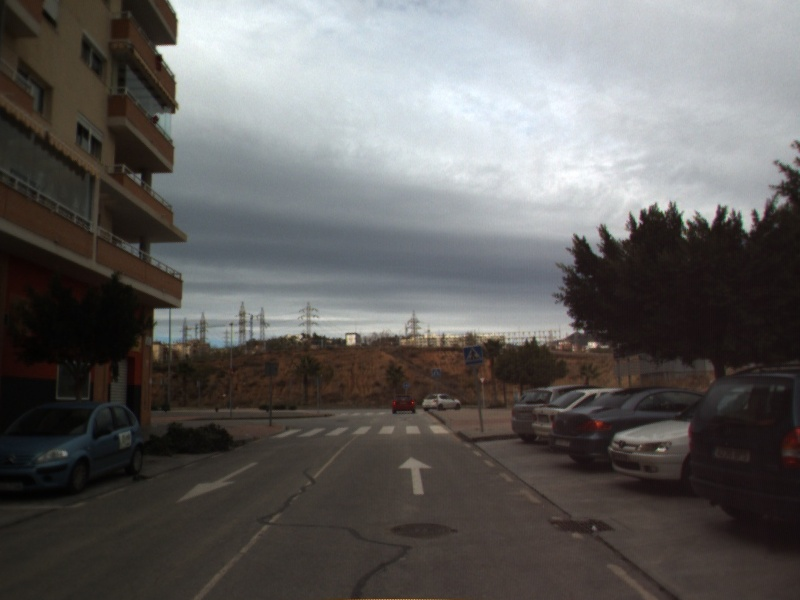STRAIGHT: (396, 454, 435, 497)
